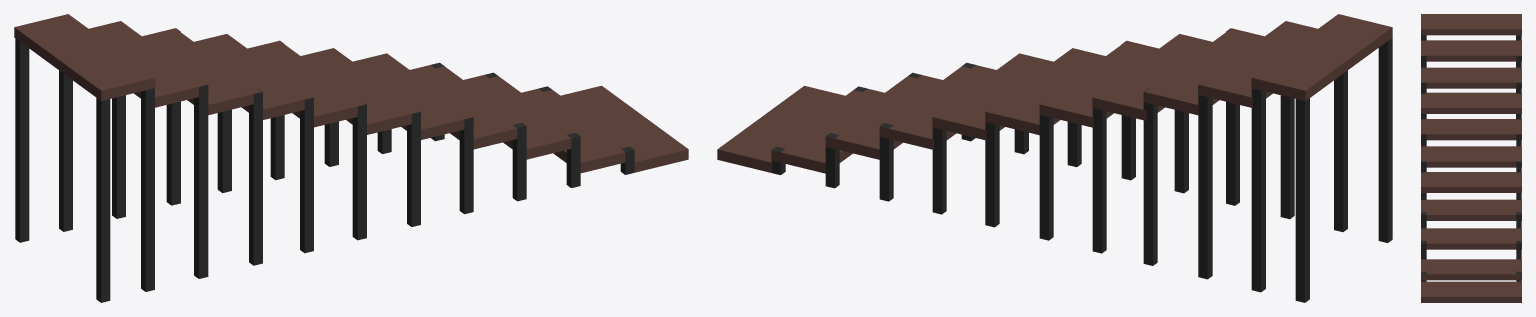
Rendered from Escada.fbx.
The picture shows the model from 3 angles, left to right: view 1: azimuth 30°, elevation 25°; view 2: azimuth 150°, elevation 25°; view 3: azimuth 270°, elevation 25°; orthographic projection. The views are drawn at different scales.
Parts seen in each view (by area): view 1: Escada; view 2: Escada; view 3: Escada.
Boxes of the visible parts, box(x1,y1,x2,y2) form: Escada: box(14, 14, 688, 302); Escada: box(717, 14, 1392, 302); Escada: box(1421, 14, 1521, 302).
Bounding box in the file's own units: 1137 × 392 × 291.
Materials: 1 (1 with a texture image).
